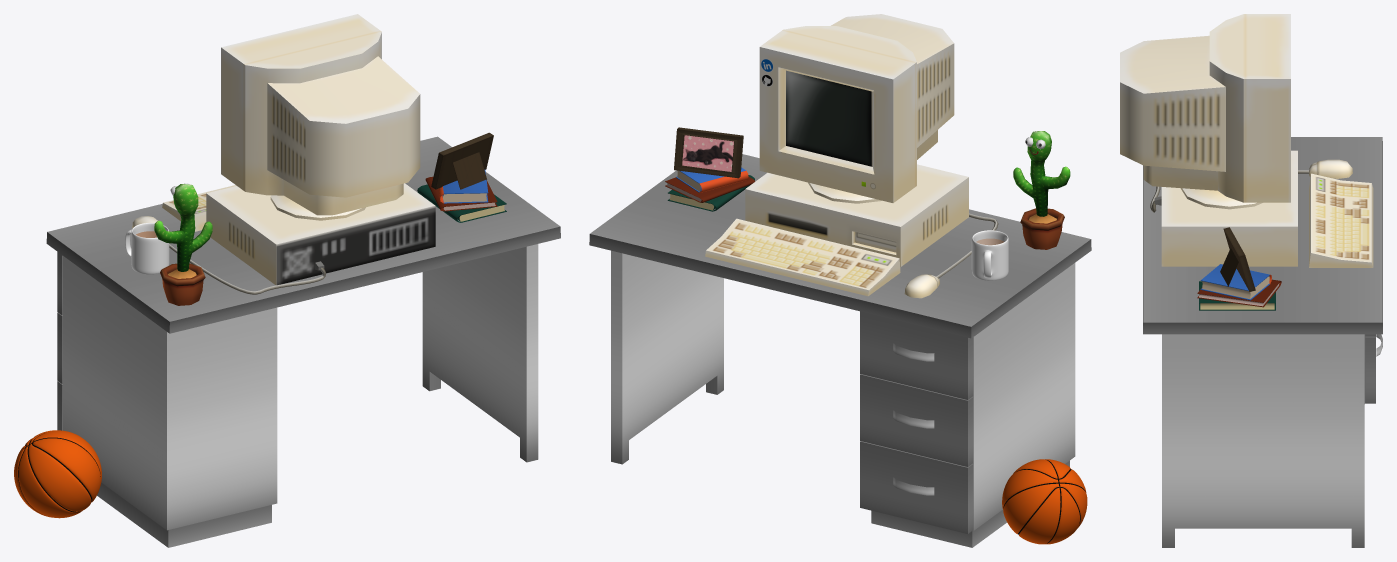
File: desk.glb
3 renders of one model, left to right at view 1: azimuth 30°, elevation 25°; view 2: azimuth 150°, elevation 25°; view 3: azimuth 270°, elevation 25°, orthographic. The views are drawn at different scales.
Parts seen in each view (by area): view 1: Table, Computer, Case, Basketball_0, Cactus, Cube, Plane_0, Rectangle002_09 - Default_0, Mouse, Keyboard; view 2: Table, Computer, Case, Keyboard, drawer, drawer2, drawer3, Basketball_0, Cactus, Plane_0, Cube, Rectangle002_09 - Default_0 (+1 smaller); view 3: Table, Computer, Case, Keyboard, Cube, Plane_0, Mouse, drawer.
Boxes of the visible parts, left/top/right/bottom form: Table: left=46, top=136, right=560, bottom=547; Computer: left=221, top=14, right=420, bottom=220; Case: left=206, top=183, right=435, bottom=285; Basketball_0: left=14, top=430, right=101, bottom=518; Cactus: left=154, top=183, right=212, bottom=305; Cube: left=417, top=169, right=506, bottom=222; Plane_0: left=431, top=132, right=493, bottom=189; Rectangle002_09 - Default_0: left=125, top=223, right=169, bottom=274; Mouse: left=132, top=216, right=325, bottom=294; Keyboard: left=162, top=185, right=236, bottom=231; Table: left=589, top=154, right=1091, bottom=547; Computer: left=759, top=14, right=954, bottom=203; Case: left=745, top=164, right=968, bottom=266; Keyboard: left=705, top=218, right=900, bottom=296; drawer: left=860, top=441, right=973, bottom=533; drawer2: left=860, top=374, right=973, bottom=466; drawer3: left=860, top=311, right=973, bottom=399; Basketball_0: left=1002, top=459, right=1087, bottom=544; Cactus: left=1013, top=131, right=1070, bottom=249; Plane_0: left=674, top=127, right=743, bottom=178; Cube: left=665, top=167, right=754, bottom=211; Rectangle002_09 - Default_0: left=971, top=230, right=1008, bottom=280; Table: left=1143, top=137, right=1382, bottom=547; Computer: left=1120, top=14, right=1290, bottom=209; Case: left=1161, top=150, right=1297, bottom=266; Keyboard: left=1309, top=173, right=1373, bottom=267; Cube: left=1197, top=264, right=1281, bottom=310; Plane_0: left=1220, top=227, right=1255, bottom=291; Mouse: left=1150, top=159, right=1352, bottom=212; drawer: left=1365, top=334, right=1382, bottom=403.
Size of the model in its own units: 2.06 by 1.84 by 1.04.
18 materials, 7 textured.
